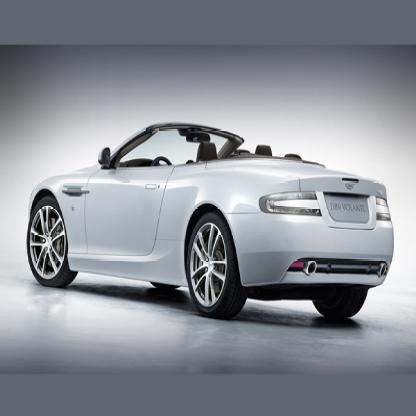Vehicle: (25, 121, 396, 324)
